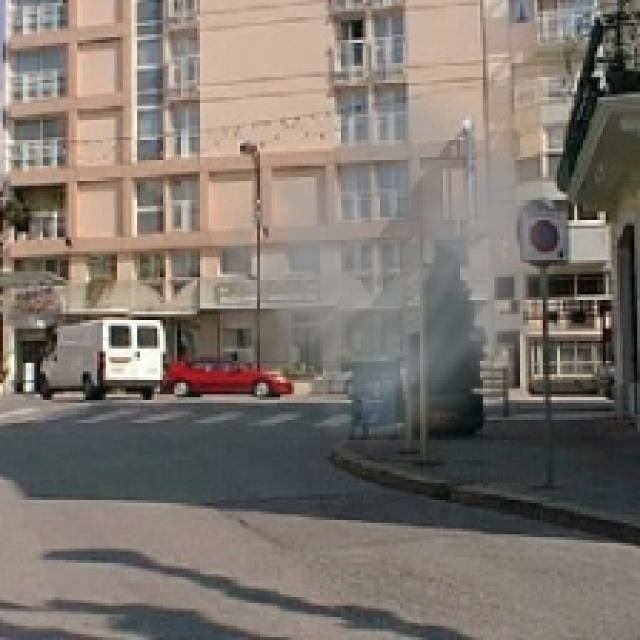Smoke: (180, 68, 569, 466)
